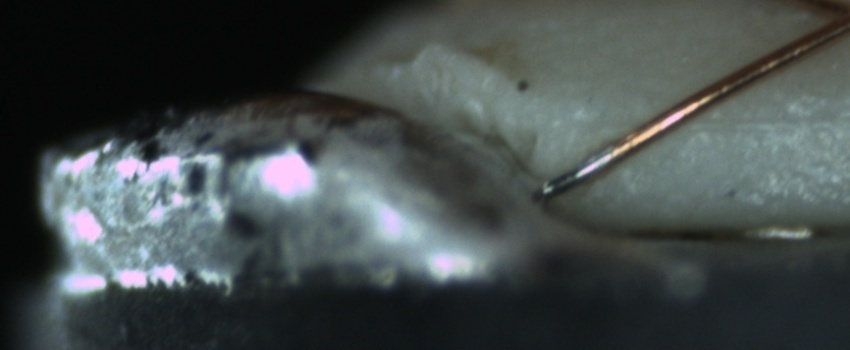CL: (809, 2, 850, 42)
DL: (687, 85, 849, 151)
TS: (535, 146, 618, 197)
